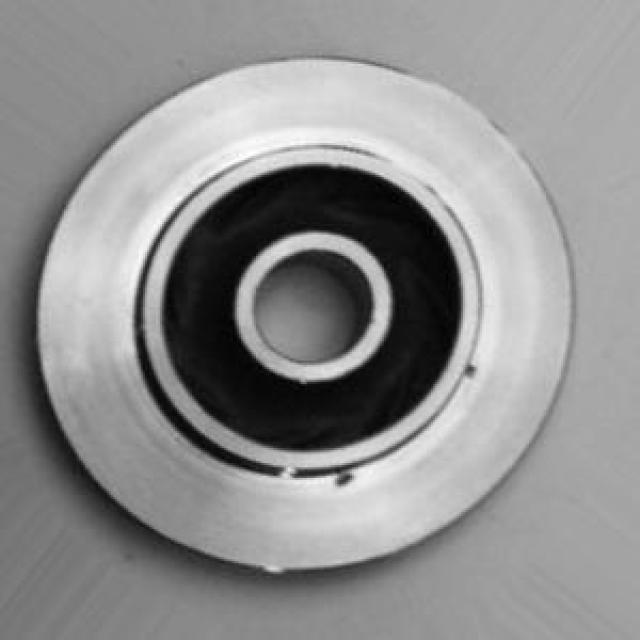Defect: (462, 357, 488, 392)
